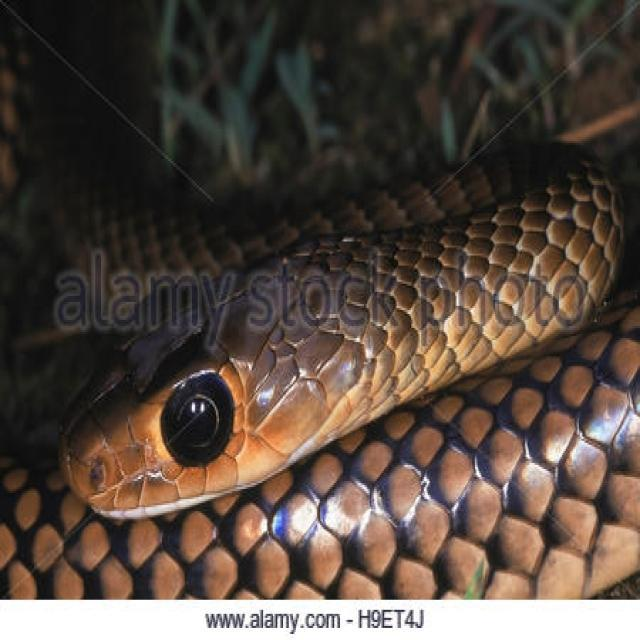Snake: (0, 135, 620, 632)
